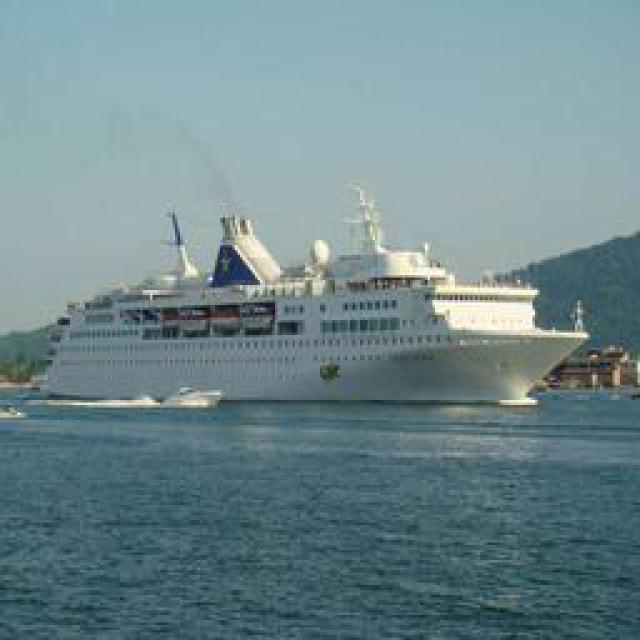Ship: (38, 192, 586, 400)
